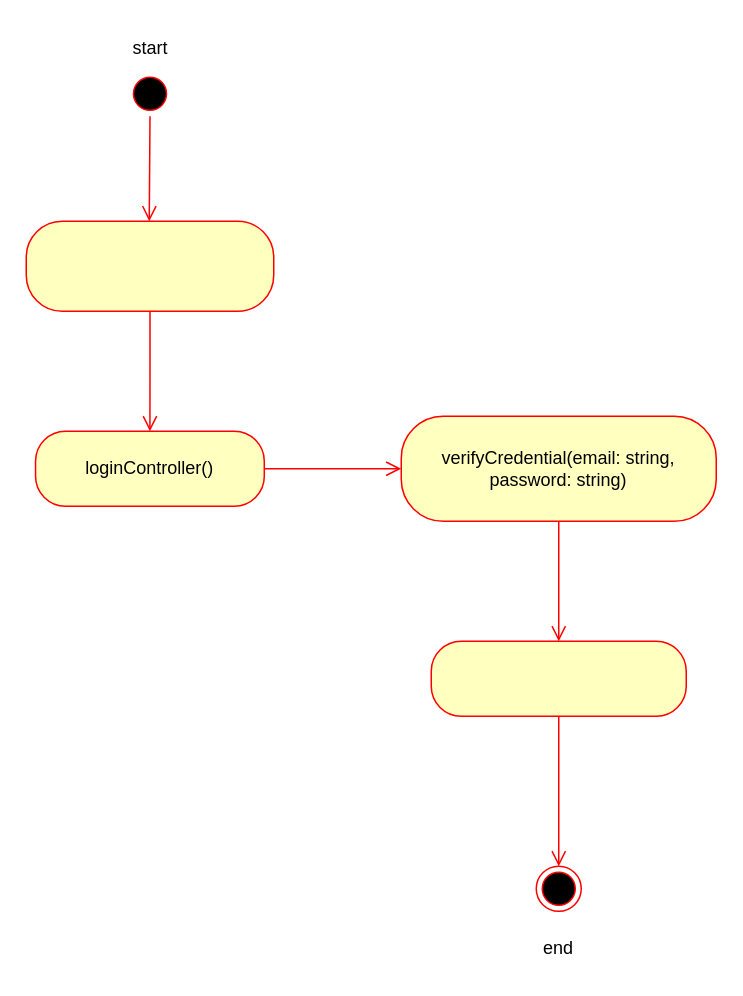
The diagram is 743 pixels wide and 996 high, and some of its shapes have lost their labels. Here are the shapes that lost their labels. From the top down, the centre of each, then its label:
the point at 149,265: submitLoginRequest()
the point at 558,678: generateJWT()
